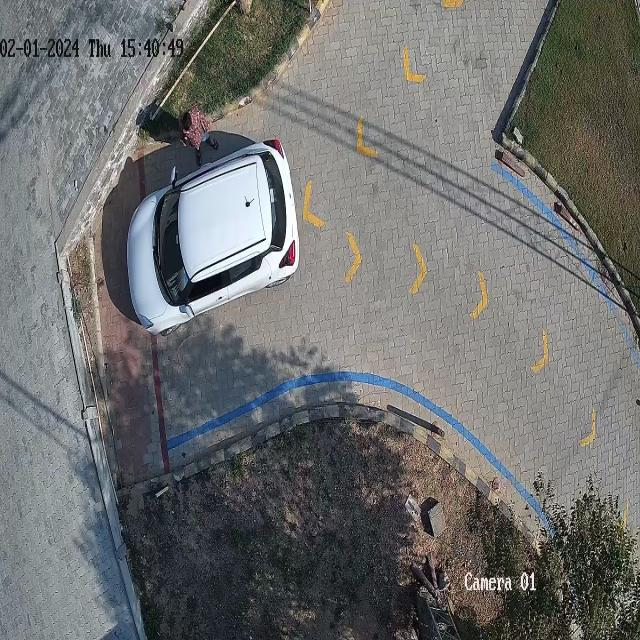car: (128, 140, 299, 334)
